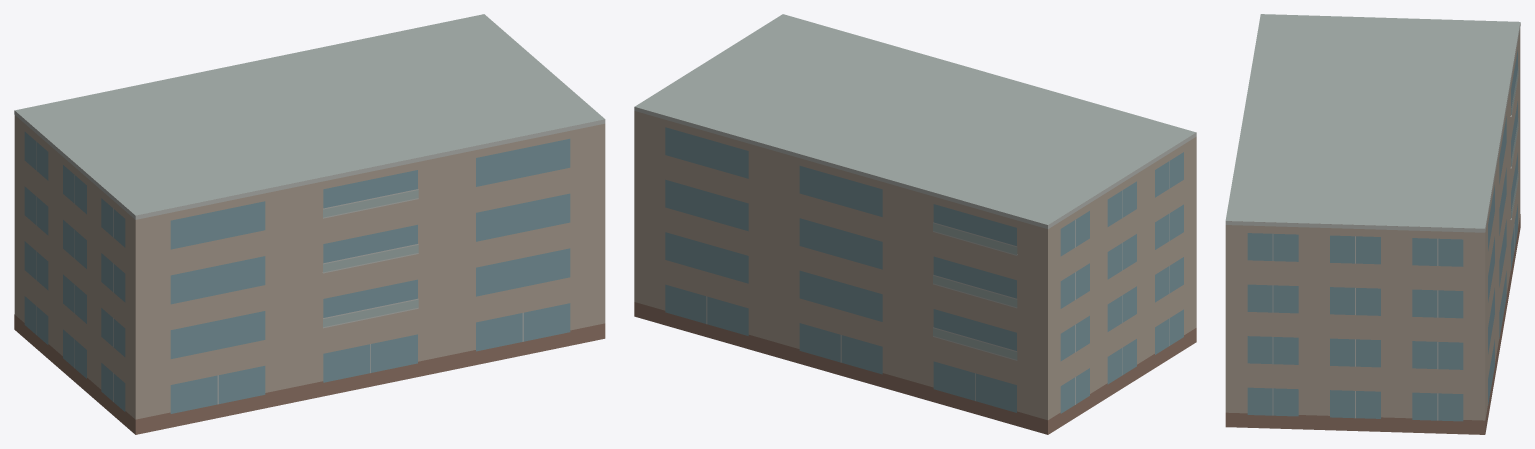
The model's file is survey-upis-32829742.glb.
3 views of the same model, side by side, from view 1: azimuth 30°, elevation 25°; view 2: azimuth 150°, elevation 25°; view 3: azimuth 270°, elevation 25° (orthographic). The views are drawn at different scales.
Visible parts, largest first — view 1: survey-upis-32829742.tmp; view 2: survey-upis-32829742.tmp; view 3: survey-upis-32829742.tmp.
Boxes of the visible parts, <box> form: survey-upis-32829742.tmp: <box>14,14,605,434</box>; survey-upis-32829742.tmp: <box>634,14,1196,434</box>; survey-upis-32829742.tmp: <box>1225,14,1520,434</box>.
Bounding box in the file's own units: 27.94 × 12.5 × 16.22.
